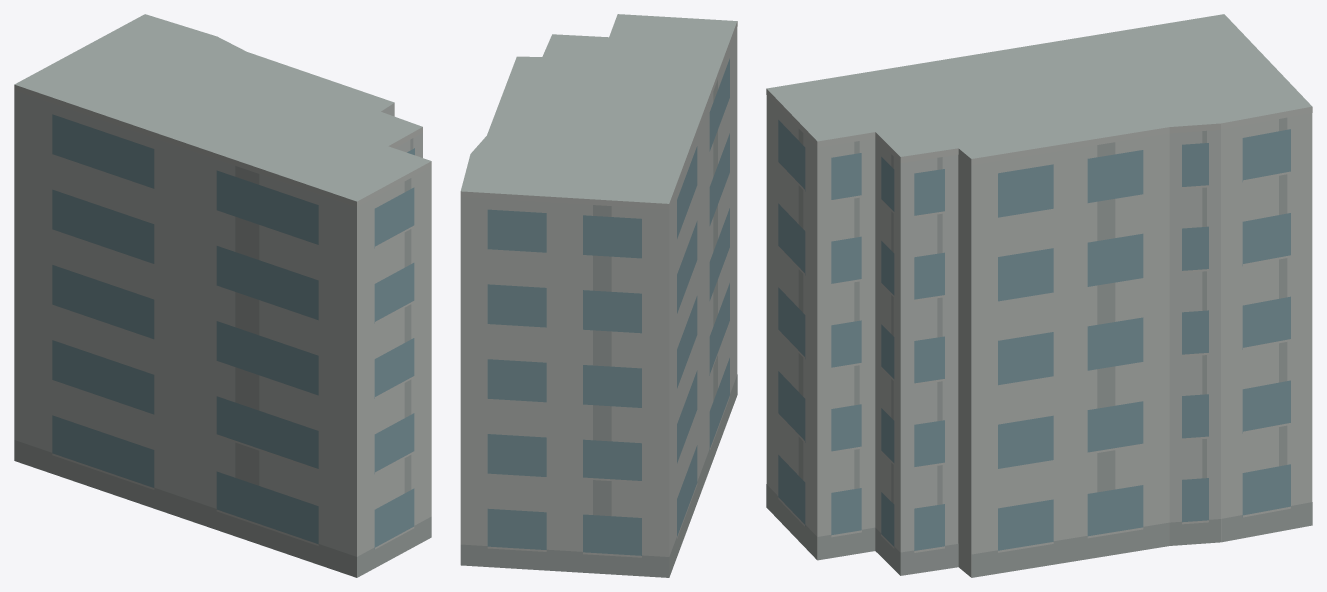
Rendered from survey-upis-32851904.glb.
3 views of the same model, side by side, from view 1: azimuth 30°, elevation 25°; view 2: azimuth 150°, elevation 25°; view 3: azimuth 270°, elevation 25° (orthographic). The views are drawn at different scales.
Parts seen in each view (by area): view 1: survey-upis-32851904.tmp; view 2: survey-upis-32851904.tmp; view 3: survey-upis-32851904.tmp.
Part boxes in pixels (x1,y1,x2,y2): survey-upis-32851904.tmp: [14, 14, 431, 577]; survey-upis-32851904.tmp: [460, 14, 737, 577]; survey-upis-32851904.tmp: [766, 14, 1312, 577].
Bounding box in the file's own units: 11.96 × 16.1 × 19.03.
